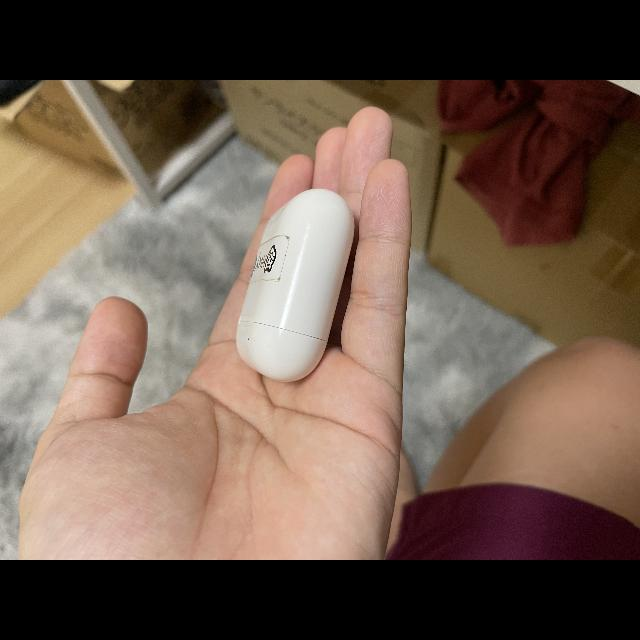airpod2: (224, 179, 360, 389)
